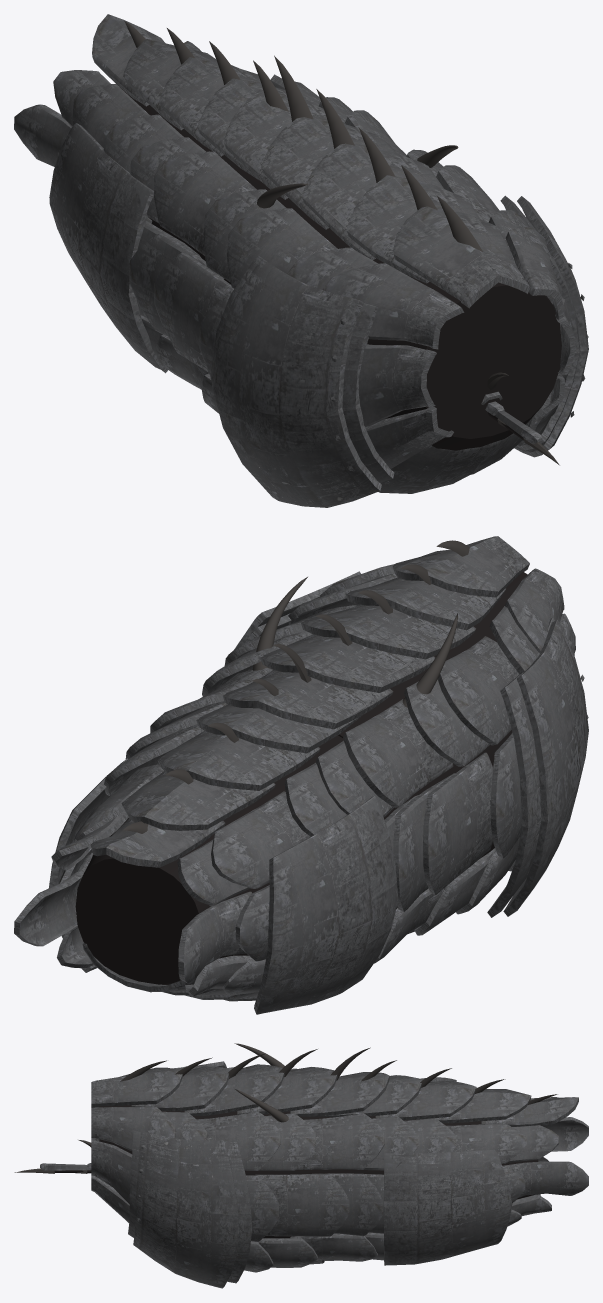
The model's file is dragon.glb.
The picture shows the model from 3 angles, top to bottom: view 1: azimuth 30°, elevation 25°; view 2: azimuth 150°, elevation 25°; view 3: azimuth 270°, elevation 25°; orthographic projection. The views are drawn at different scales.
Visible parts, largest first — view 1: chest_body, pelvis_body, chest_bk8, chest_bk1, chest_bk4, chest_bk3, chest_bk0, pelvis_bk0, chest_bk7, chest_bk6, chest_bk2, wing_f0_body (+2 smaller); view 2: pelvis_body, chest_body, chest_bk8, pelvis_bk0, chest_bk0, chest_bk3, chest_bk1, chest_bk4, head_body, chest_bk6, chest_bk5, chest_bk2 (+1 smaller); view 3: chest_body, pelvis_body, chest_bk7, chest_bk2, chest_bk1, chest_bk0, pelvis_bk0, chest_bk4, chest_bk5, head_body, wing_f0_body.
Boxes of the visible parts, <box> form: chest_body: <box>129,55,588,493</box>; pelvis_body: <box>14,14,352,373</box>; chest_bk8: <box>212,259,381,507</box>; chest_bk1: <box>301,143,443,260</box>; chest_bk4: <box>346,175,479,283</box>; chest_bk3: <box>227,208,337,288</box>; chest_bk0: <box>261,117,395,229</box>; pelvis_bk0: <box>159,57,261,156</box>; chest_bk7: <box>514,196,588,457</box>; chest_bk6: <box>287,247,377,289</box>; chest_bk2: <box>436,165,499,222</box>; wing_f0_body: <box>485,401,559,465</box>; pelvis_body: <box>14,679,418,1014</box>; chest_body: <box>150,536,588,963</box>; chest_bk8: <box>503,620,588,916</box>; pelvis_bk0: <box>157,730,320,790</box>; chest_bk0: <box>260,634,435,692</box>; chest_bk3: <box>437,636,519,745</box>; chest_bk1: <box>300,604,475,659</box>; chest_bk4: <box>346,577,505,630</box>; head_body: <box>252,577,457,707</box>; chest_bk6: <box>489,606,537,674</box>; chest_bk5: <box>288,573,397,624</box>; chest_bk2: <box>224,605,357,665</box>; chest_body: <box>91,1047,389,1283</box>; pelvis_body: <box>320,1060,588,1265</box>; chest_bk7: <box>133,1131,239,1288</box>; chest_bk2: <box>197,1111,280,1170</box>; chest_bk1: <box>184,1064,284,1115</box>; chest_bk0: <box>237,1067,337,1114</box>; pelvis_bk0: <box>375,1081,476,1120</box>; chest_bk4: <box>131,1066,229,1111</box>; chest_bk5: <box>162,1111,207,1140</box>; head_body: <box>234,1043,288,1122</box>; wing_f0_body: <box>14,1163,91,1173</box>.
Size of the model in its own units: 3 by 2.87 by 7.07.
7 materials, 1 textured.
